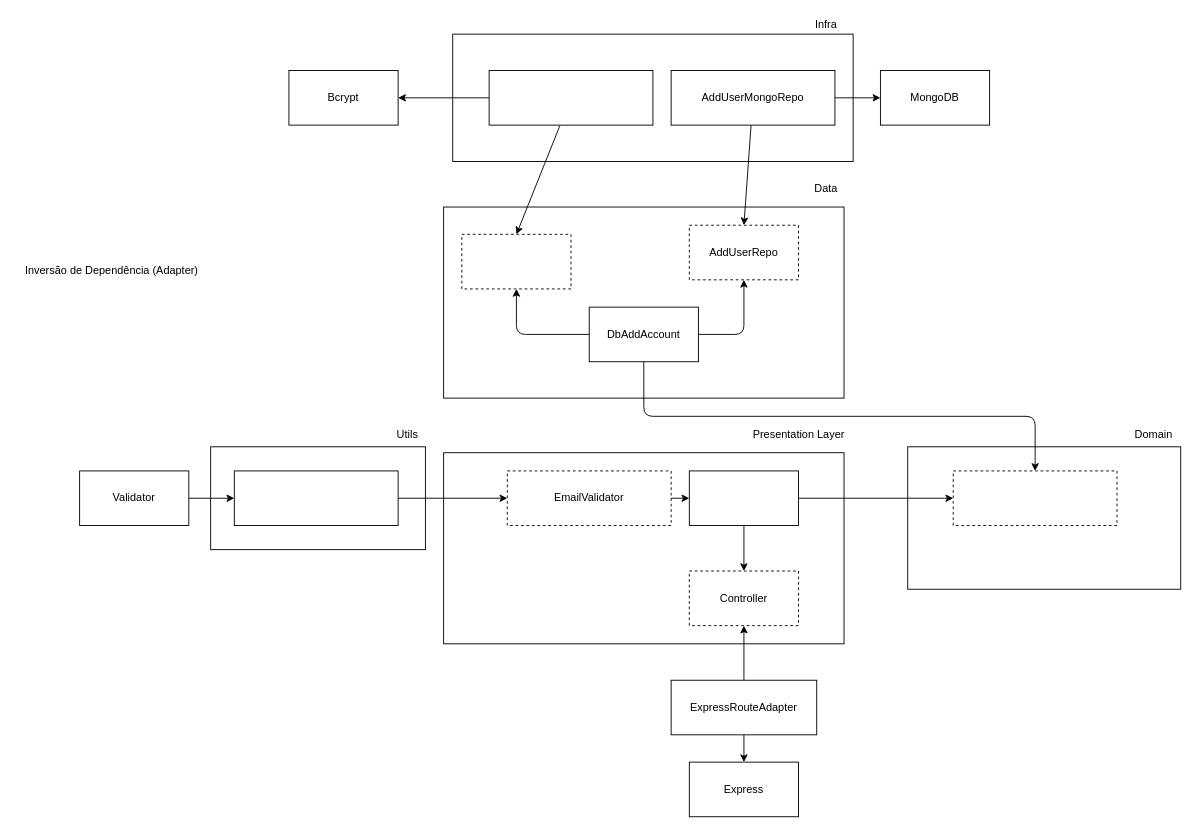
Image size: 1197x833. Some labels were removed from this diagram. Each missing label, with the centre of its shape:
"AddAccount" goes at (1034,498).
"BcryotAdapter" goes at (570,97).
"EmailValidatorAdapter" goes at (315,498).
"Encrypter" goes at (516,261).
"SignupController" goes at (743,498).
